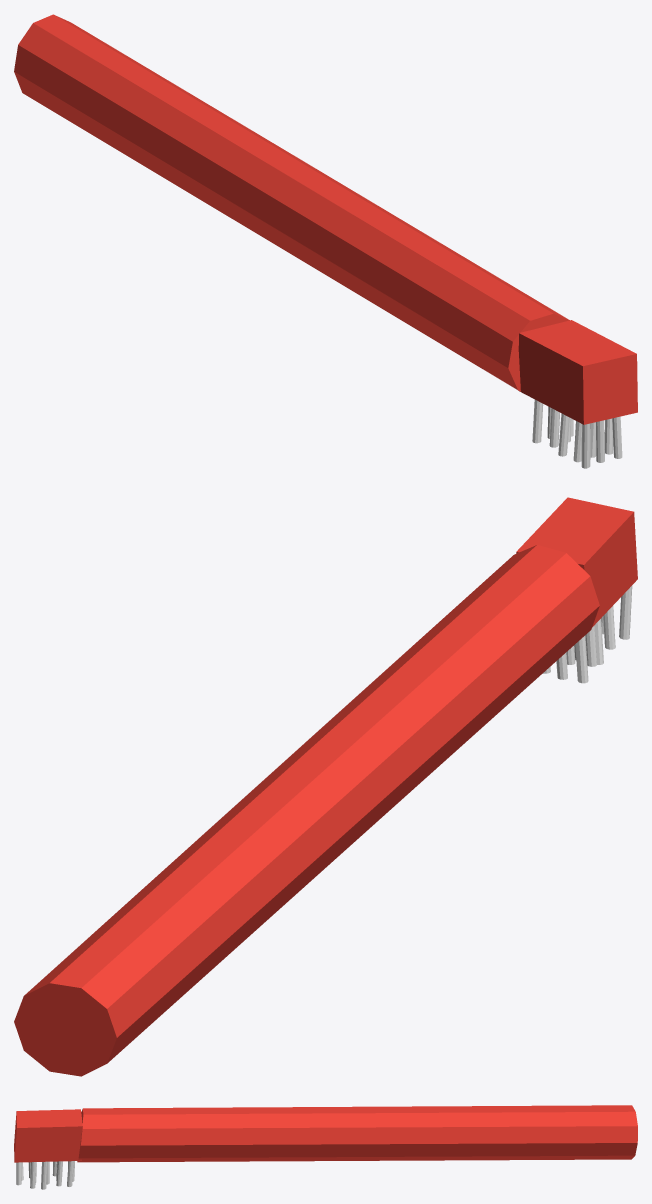
File: toothbrush.fbx
3 views of the same model, one above another, from view 1: azimuth 30°, elevation 25°; view 2: azimuth 150°, elevation 25°; view 3: azimuth 270°, elevation 25° (orthographic). The views are drawn at different scales.
Visible parts, largest first — view 1: group_1924666019, group_1685022936; view 2: group_1924666019, group_1685022936; view 3: group_1924666019, group_1685022936, group_1095378418, group_727045145, group_1576317100, group_1072615884.
Part boxes in pixels (x1=…): group_1924666019: x1=14, y1=14, x2=569, y2=391; group_1685022936: x1=518, y1=320, x2=637, y2=424; group_1924666019: x1=14, y1=545, x2=599, y2=1076; group_1685022936: x1=516, y1=497, x2=637, y2=626; group_1924666019: x1=77, y1=1105, x2=637, y2=1162; group_1685022936: x1=14, y1=1109, x2=82, y2=1162; group_1095378418: x1=41, y1=1161, x2=47, y2=1189; group_727045145: x1=30, y1=1162, x2=36, y2=1188; group_1576317100: x1=67, y1=1161, x2=73, y2=1186; group_1072615884: x1=56, y1=1161, x2=62, y2=1186.
Size of the model in its own units: 32.62 by 28.68 by 229.
